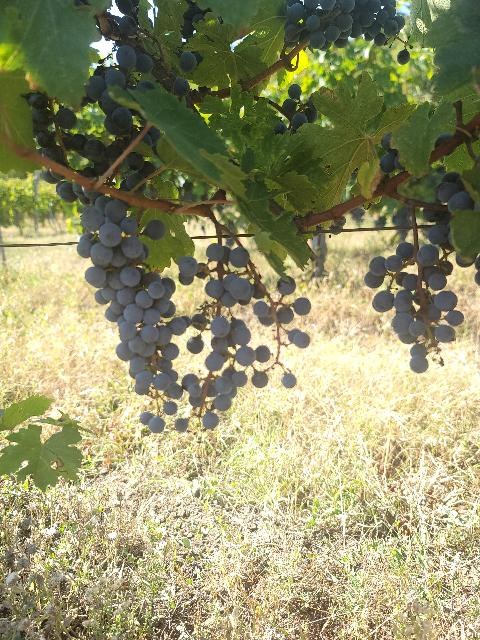grapes: (78, 195, 188, 394), (194, 242, 310, 410), (364, 242, 464, 374)
